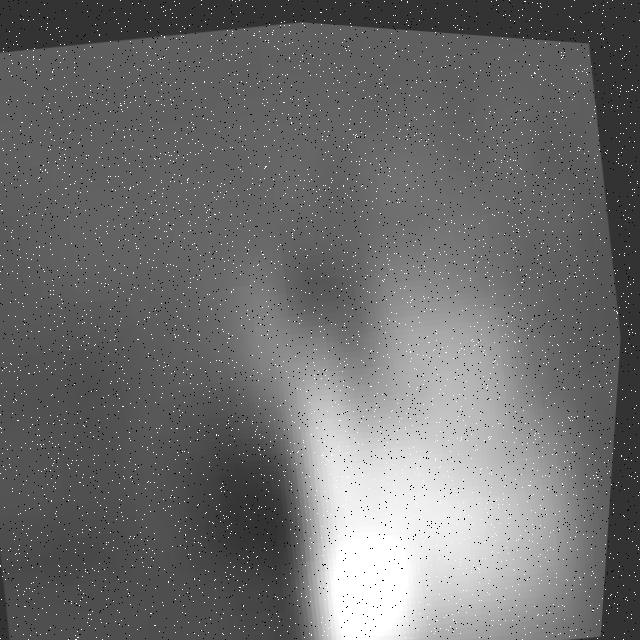person: (205, 192, 593, 640)
